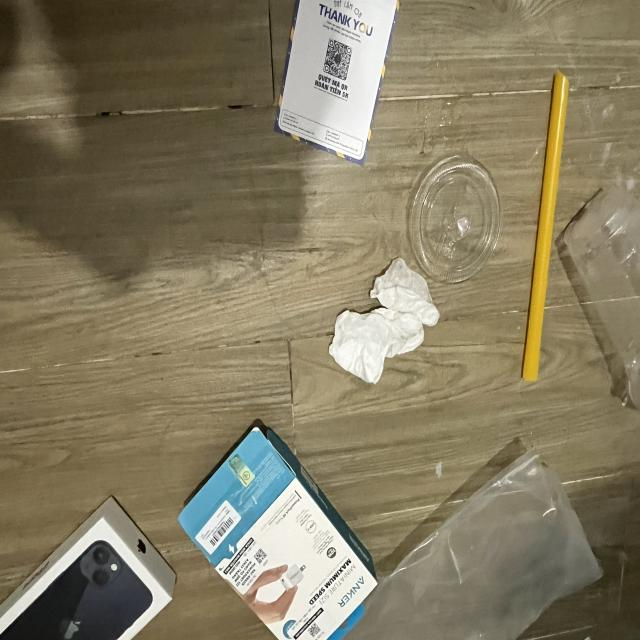bag: (338, 441, 607, 640)
cardboard box: (183, 417, 376, 640), (0, 484, 179, 640)
drinking straw: (522, 69, 572, 386)
lid: (405, 148, 500, 283)
napkin: (326, 259, 442, 384)
paper: (274, 0, 399, 163)
plastic glass: (564, 180, 640, 406)
